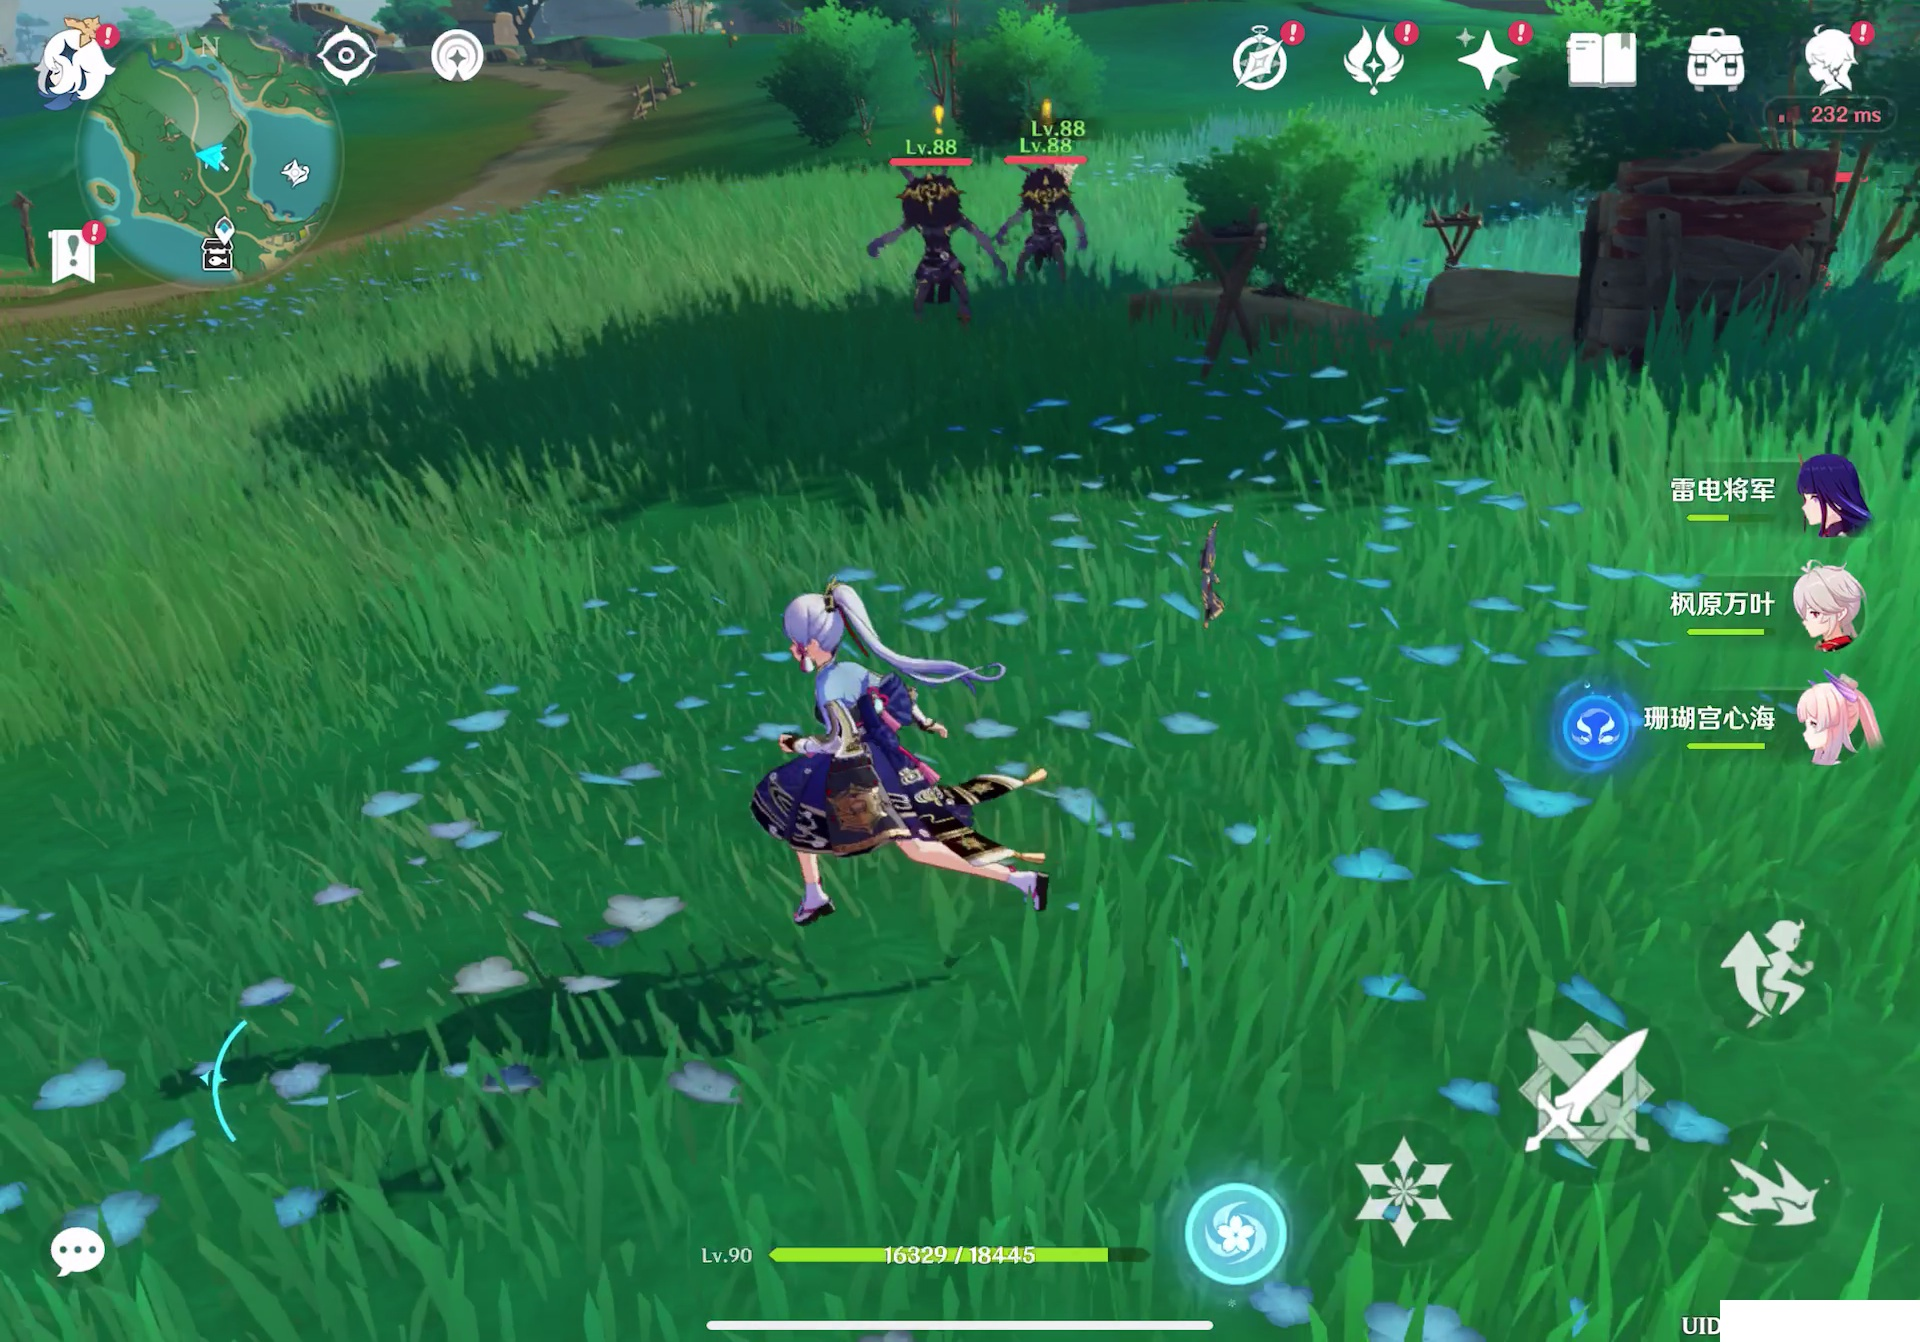丘丘人: (871, 174, 1007, 314), (1005, 169, 1102, 284)
神里绫龟: (740, 586, 1091, 953)
